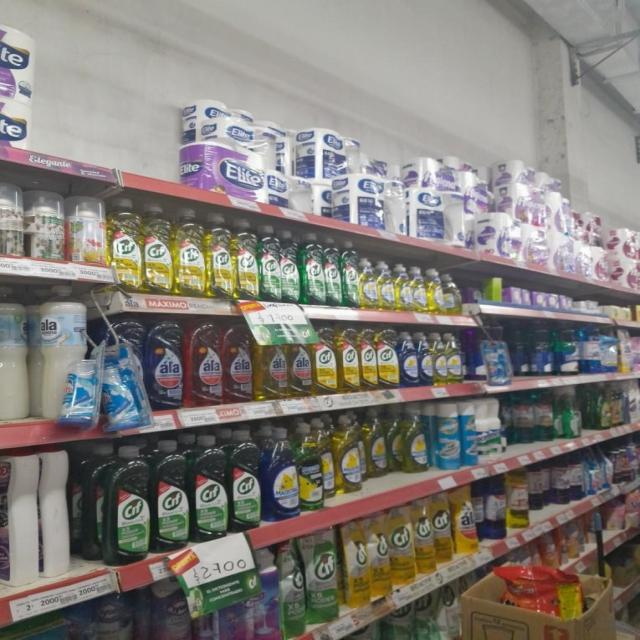ala_conc_amarillo: (254, 325, 287, 401), (288, 328, 311, 397)
ala_conc_azul: (145, 316, 184, 411)
ala_conc_rojo: (185, 317, 222, 408), (224, 320, 253, 404)
ala_crem_blanco: (32, 283, 95, 424), (0, 283, 29, 423)
ala_sachet_amarillo: (453, 484, 477, 554)
cif_conc_bot_amarilla: (110, 198, 142, 294), (174, 207, 205, 297), (143, 203, 172, 295), (206, 213, 233, 300), (234, 219, 258, 301), (312, 326, 337, 396), (338, 327, 358, 394), (378, 328, 398, 390), (359, 329, 377, 391)
cif_conc_botella_verde: (101, 444, 150, 564), (152, 438, 189, 552), (191, 433, 227, 541), (229, 428, 261, 532), (301, 232, 324, 305), (260, 224, 280, 302), (281, 228, 300, 304), (324, 236, 341, 307), (342, 239, 358, 308)
cif_conc_sachet_amarillo: (391, 504, 413, 586), (414, 494, 433, 575), (434, 489, 452, 568)
cif_conc_sachet_verde: (306, 528, 338, 623), (282, 539, 304, 637)
magistral_con_amarillo: (335, 413, 363, 494), (403, 404, 429, 474), (364, 408, 387, 480), (322, 417, 335, 503), (388, 406, 402, 474), (447, 332, 463, 384), (443, 271, 461, 315), (395, 263, 411, 312), (433, 332, 446, 386), (428, 268, 443, 314), (412, 266, 426, 313)
magistral_con_azul: (399, 331, 418, 387), (418, 332, 432, 386)
